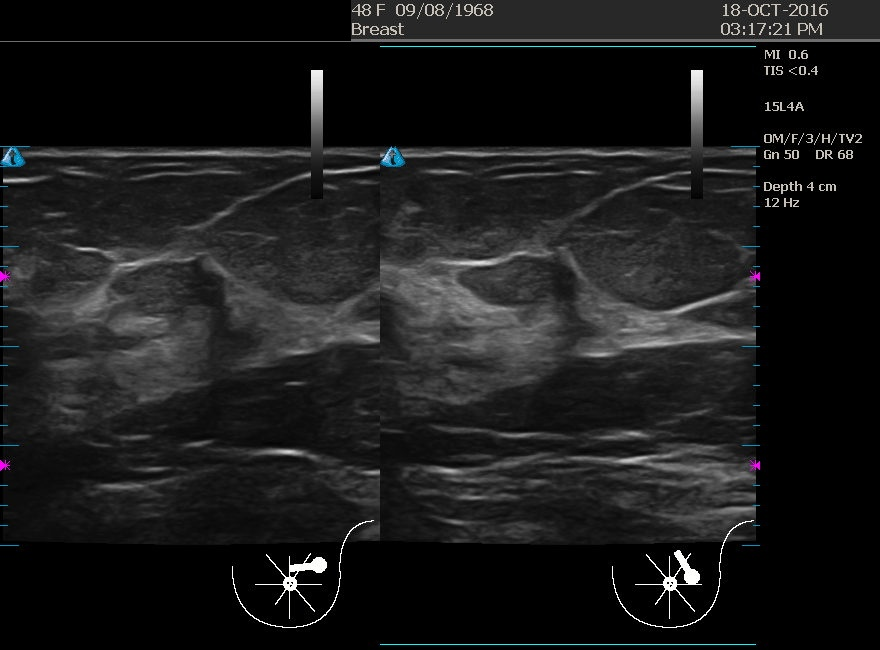BIRADS_3: (73, 197, 273, 397), (419, 196, 619, 396)
